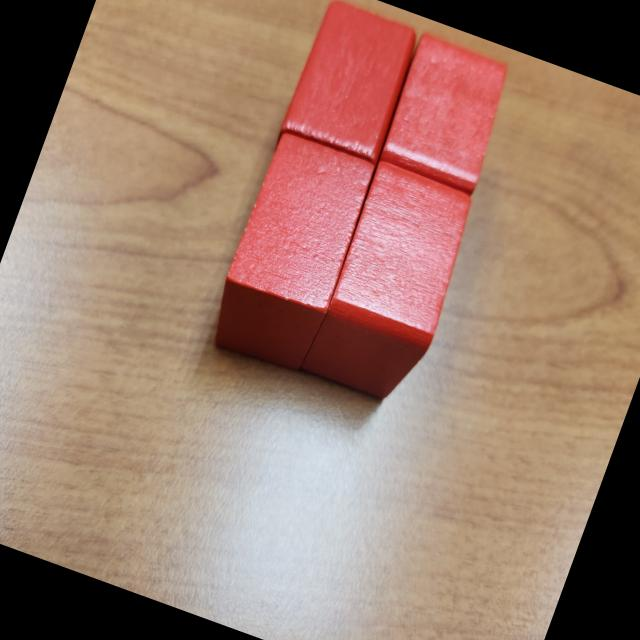red: (297, 156, 486, 412), (202, 128, 384, 382), (273, 0, 428, 181), (374, 30, 522, 198)
